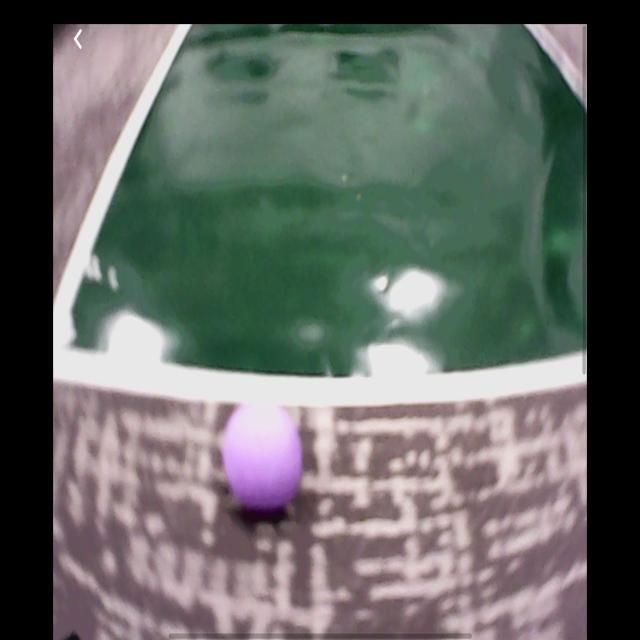ball: (222, 402, 305, 514)
